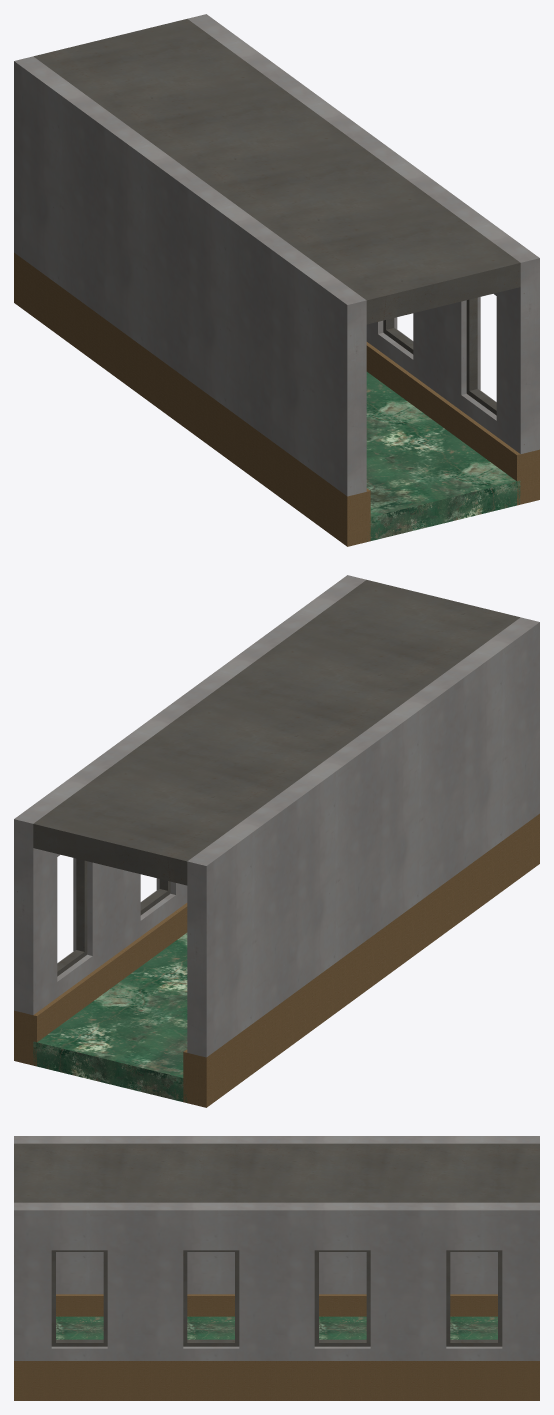
The model's file is hospital_hallway.glb.
3 renders of one model, top to bottom at view 1: azimuth 30°, elevation 25°; view 2: azimuth 150°, elevation 25°; view 3: azimuth 270°, elevation 25°, orthographic. The views are drawn at different scales.
Parts seen in each view (by area): view 1: backwall.004_6, roof_2, backwall.002_4, backwall_0, floor_1, backwall.003_5, backwall.001_3; view 2: backwall.004_6, roof_2, backwall.002_4, backwall_0, floor_1, backwall.003_5, backwall.001_3; view 3: backwall.002_4, roof_2, backwall.003_5, backwall.004_6, backwall.001_3, floor_1, backwall_0.
Boxes of the visible parts, left/top/right/bottom form: backwall.004_6: left=14, top=56, right=366, bottom=496; roof_2: left=33, top=19, right=520, bottom=324; backwall.002_4: left=187, top=14, right=539, bottom=453; backwall_0: left=14, top=252, right=370, bottom=546; floor_1: left=366, top=372, right=520, bottom=541; backwall.003_5: left=366, top=342, right=539, bottom=505; backwall.001_3: left=383, top=297, right=496, bottom=415; backwall.004_6: left=187, top=617, right=539, bottom=1057; roof_2: left=33, top=580, right=520, bottom=885; backwall.002_4: left=14, top=575, right=366, bottom=1014; backwall_0: left=183, top=813, right=539, bottom=1107; floor_1: left=33, top=933, right=187, bottom=1102; backwall.003_5: left=14, top=903, right=187, bottom=1066; backwall.001_3: left=57, top=858, right=170, bottom=976; backwall.002_4: left=14, top=1202, right=539, bottom=1360; roof_2: left=14, top=1143, right=539, bottom=1202; backwall.003_5: left=14, top=1361, right=539, bottom=1400; backwall.004_6: left=14, top=1136, right=539, bottom=1294; backwall.001_3: left=51, top=1250, right=502, bottom=1346; floor_1: left=56, top=1316, right=497, bottom=1339; backwall_0: left=56, top=1294, right=497, bottom=1316.
Bounding box in the file's own units: 10 × 12 × 30.
Materials: 4 (4 with a texture image).
